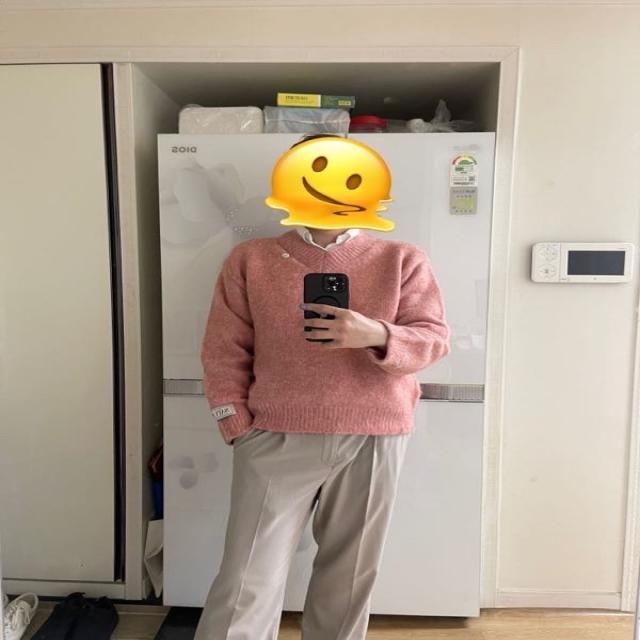slacks: (194, 426, 412, 640)
sweater: (198, 225, 448, 440)
